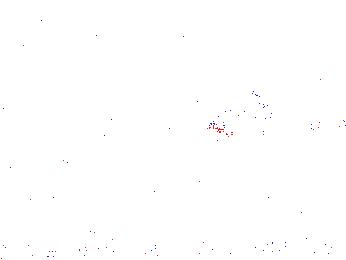flame jellyfish: (207, 89, 275, 144), (148, 166, 208, 219), (283, 62, 326, 132)
